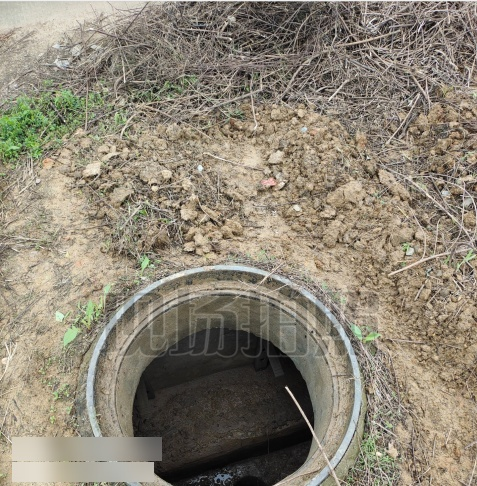well: (82, 264, 364, 485)
